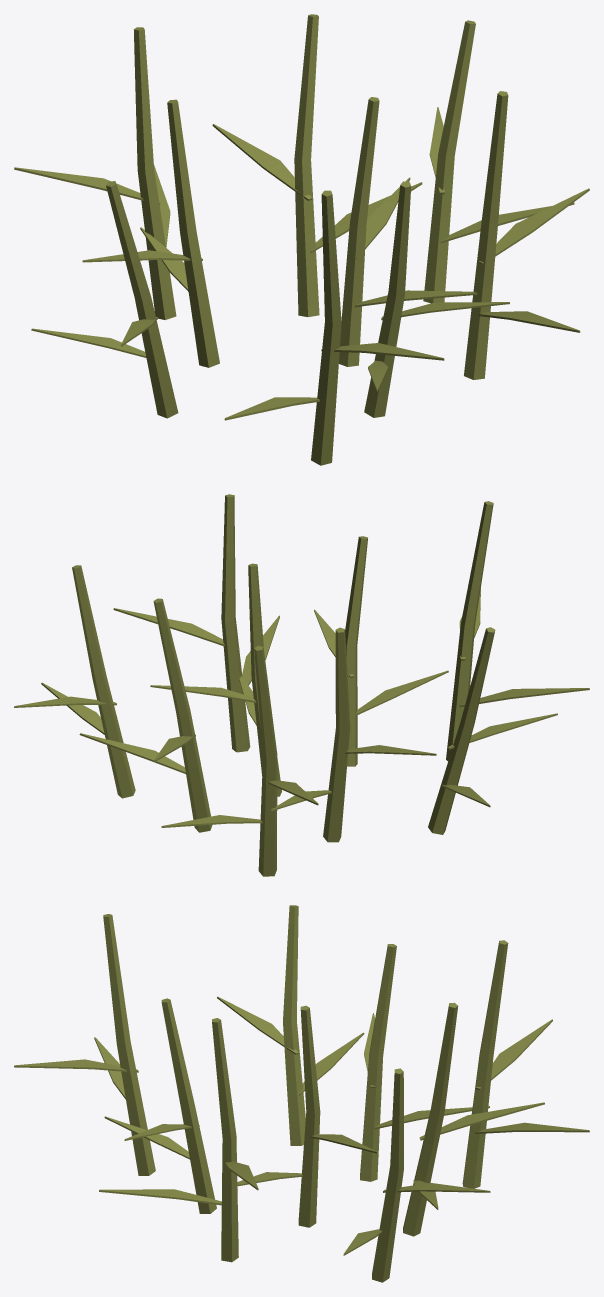
File: crop_wheat_sprout.glb
3 renders of one model, top to bottom at view 1: azimuth 30°, elevation 25°; view 2: azimuth 150°, elevation 25°; view 3: azimuth 270°, elevation 25°, orthographic. The views are drawn at different scales.
Visible parts, largest first — view 1: wheat_leaf_00_0; view 2: wheat_leaf_00_0; view 3: wheat_leaf_00_0.
Part boxes in pixels (x1,y1,x2,y2): wheat_leaf_00_0: [14, 14, 589, 465]; wheat_leaf_00_0: [14, 494, 589, 876]; wheat_leaf_00_0: [14, 905, 589, 1282].
Size of the model in its own units: 0.6046 by 0.3146 by 0.651.
